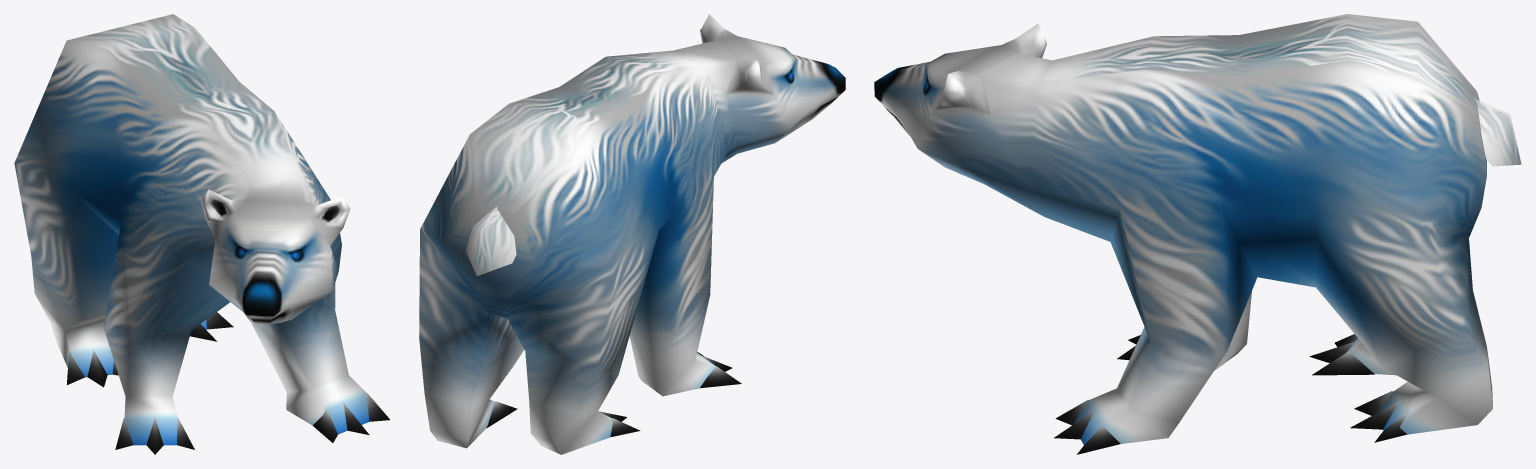
File: Personage_Bear1.FBX
The picture shows the model from 3 angles, left to right: view 1: azimuth 30°, elevation 25°; view 2: azimuth 150°, elevation 25°; view 3: azimuth 270°, elevation 25°; orthographic projection. The views are drawn at different scales.
Parts seen in each view (by area): view 1: Bear; view 2: Bear; view 3: Bear.
Part boxes in pixels (<box>): Bear: <box>14,14,389,454</box>; Bear: <box>419,14,845,454</box>; Bear: <box>874,14,1521,454</box>.
Size of the model in its own units: 45.71 by 58.99 by 97.45.
